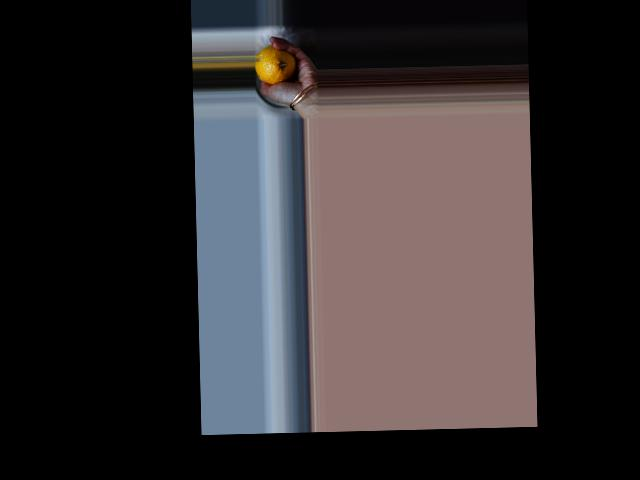lemon: (256, 45, 297, 82)
